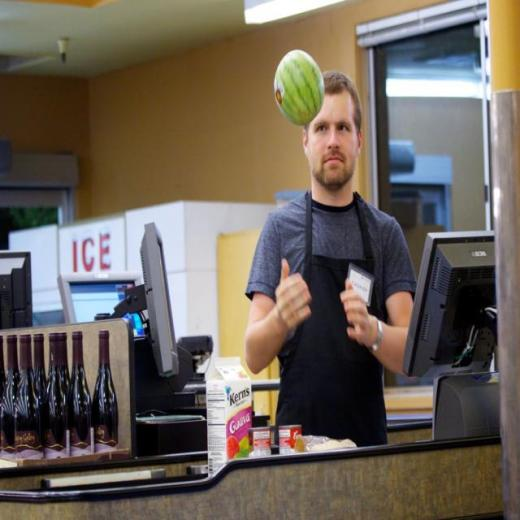Cherry: (272, 48, 326, 128)
